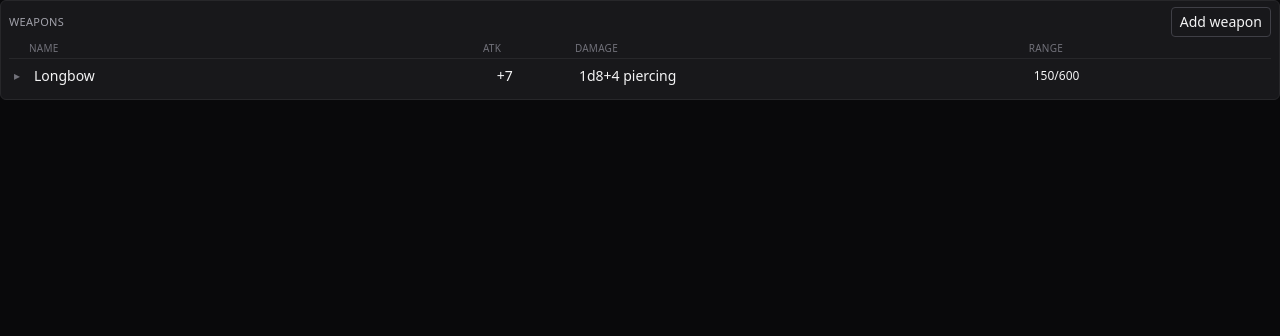
Test: WeaponsTable › expands to show details and recalculates for finesse
This screenshot has width=1280, height=336.
Click the button named "Expand Longbow" at point(17, 76), box 9,68 -> 25,84
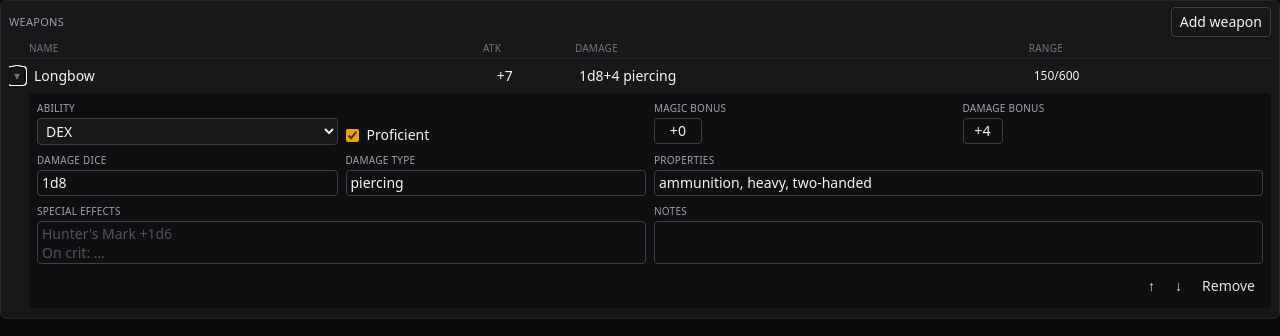
Check: the text box labelled "Special effects" is shown, box 37,221 -> 646,264
Check: the field labelled "Properties" holds "ammunition, heavy, two-handed", box 654,170 -> 1263,196
Select "STR" in the dropdown labelled "Ability" at point(187, 132), box 37,118 -> 338,145
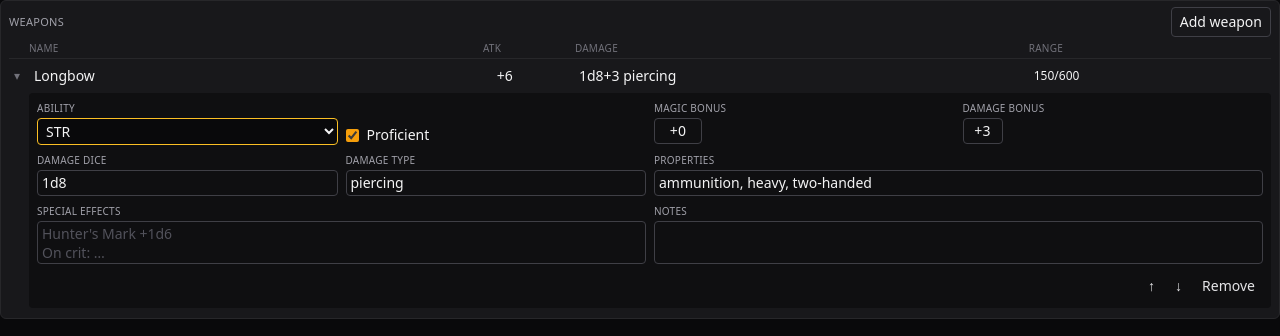
Check: the field named "Attack bonus" holds "+6", box 483,63 -> 527,89
Select "Finesse (STR or DEX)" in the dropdown labelled "Ability" at point(187, 132), box 37,118 -> 338,145
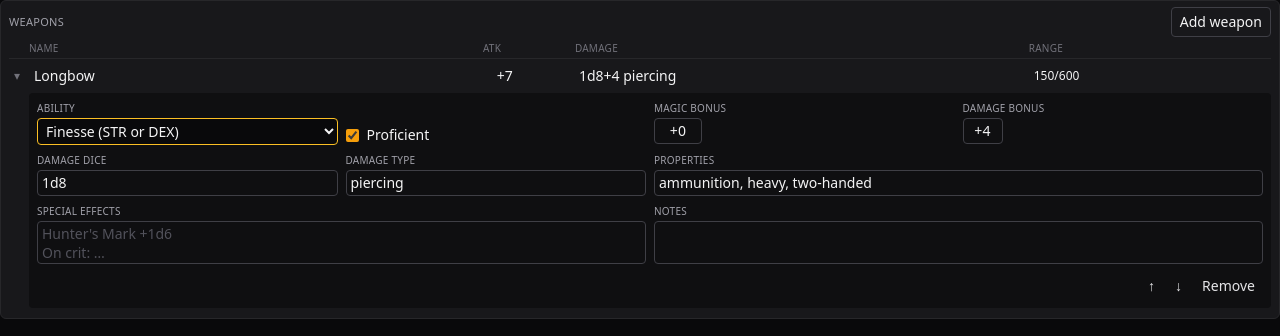
Check: the field named "Attack bonus" holds "+7", box 483,63 -> 527,89
Click the checkbox labelled "Proficient" at point(352, 135), box 346,128 -> 358,142
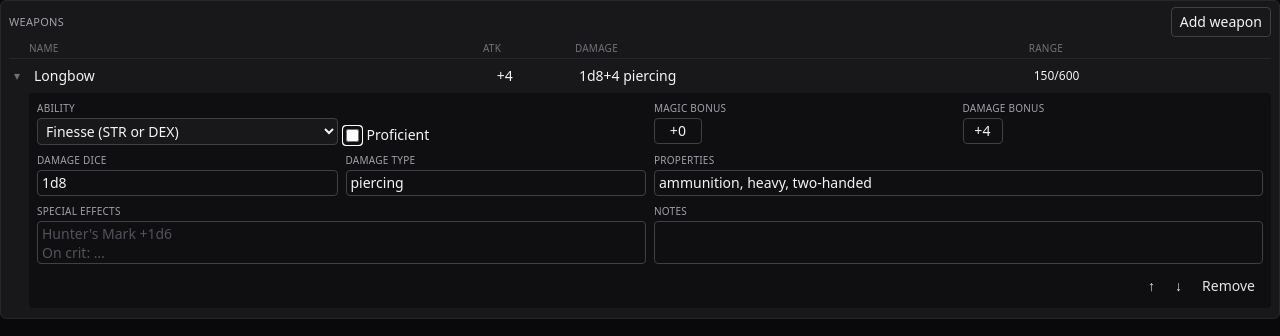
Check: the field named "Attack bonus" holds "+4", box 483,63 -> 527,89
